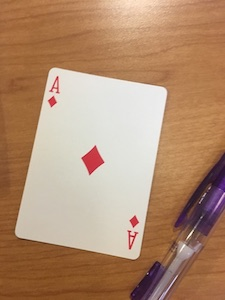AceOfDiamonds: (13, 64, 170, 262)
